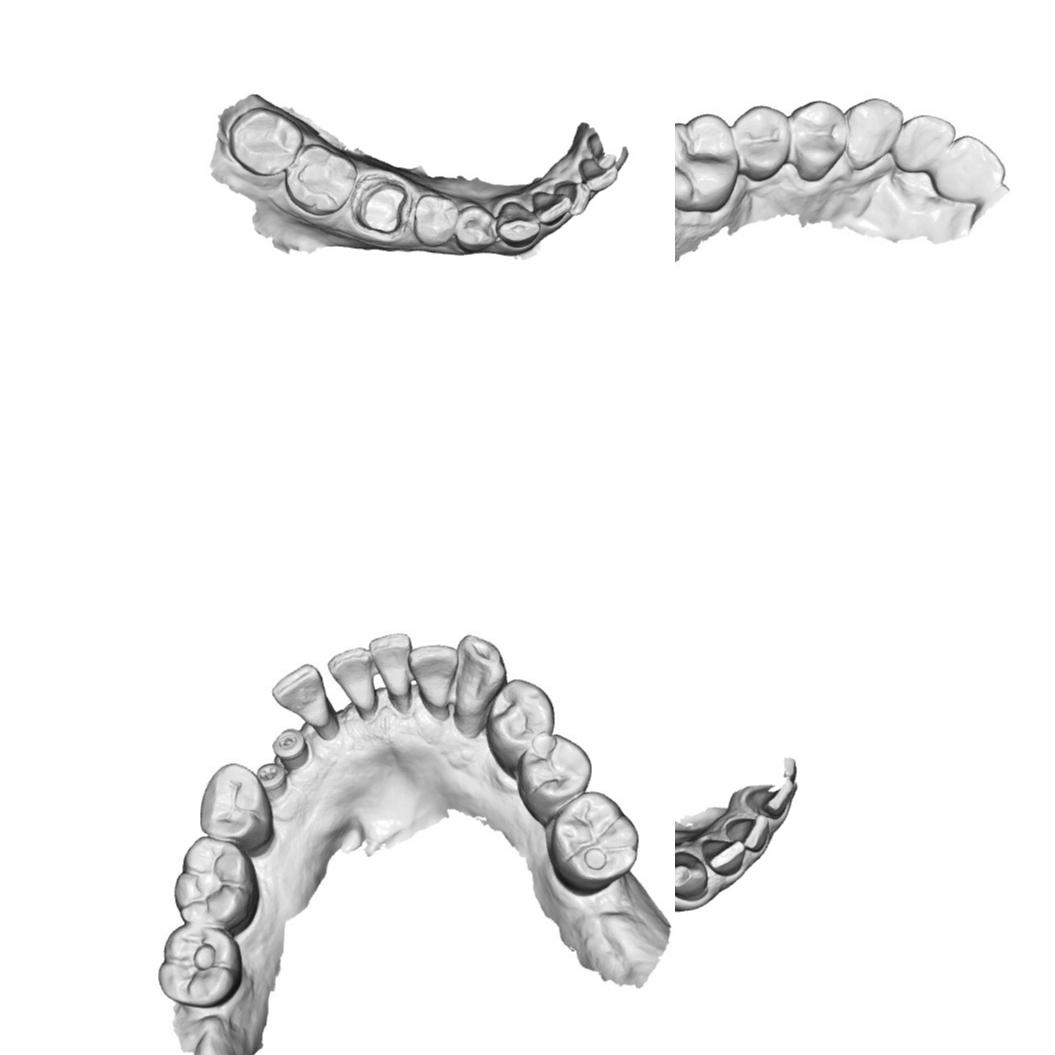canine: (454, 627, 506, 732), (843, 96, 903, 172), (492, 200, 541, 248), (675, 849, 711, 901)
crown: (352, 177, 410, 236)
implant: (271, 723, 310, 771), (257, 759, 286, 799)
incisor: (930, 133, 1007, 205), (268, 662, 340, 736), (892, 113, 958, 177), (323, 644, 377, 713), (370, 628, 413, 705), (409, 644, 453, 717), (742, 777, 800, 818), (699, 836, 747, 876), (724, 813, 770, 854), (530, 188, 573, 228), (576, 155, 620, 193), (554, 180, 589, 218)
molar: (164, 835, 265, 932), (152, 922, 242, 1009), (553, 795, 638, 882), (675, 112, 736, 214), (226, 106, 306, 178), (285, 141, 360, 217)
premolar: (197, 762, 274, 853), (514, 732, 594, 810), (490, 680, 556, 756), (788, 98, 846, 182), (732, 103, 791, 184), (412, 193, 460, 249), (454, 203, 498, 254)
